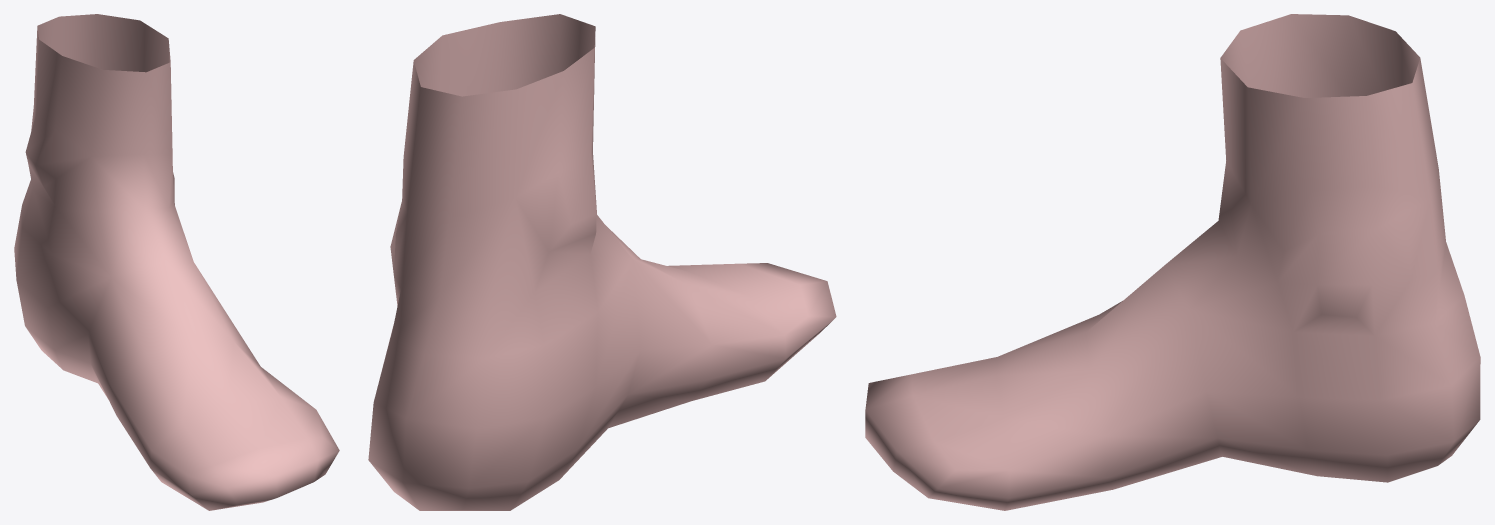
File: Base_Male_A_Foot02.fbx
The picture shows the model from 3 angles, left to right: view 1: azimuth 30°, elevation 25°; view 2: azimuth 150°, elevation 25°; view 3: azimuth 270°, elevation 25°; orthographic projection. The views are drawn at different scales.
Visible parts, largest first — view 1: Base_Male_A_Foot02; view 2: Base_Male_A_Foot02; view 3: Base_Male_A_Foot02.
Part boxes in pixels (left/top/right/bottom): Base_Male_A_Foot02: left=14, top=14, right=339, bottom=510; Base_Male_A_Foot02: left=368, top=14, right=836, bottom=510; Base_Male_A_Foot02: left=865, top=14, right=1480, bottom=510.
Bounding box in the file's own units: 0.5866 × 1.12 × 1.48.
